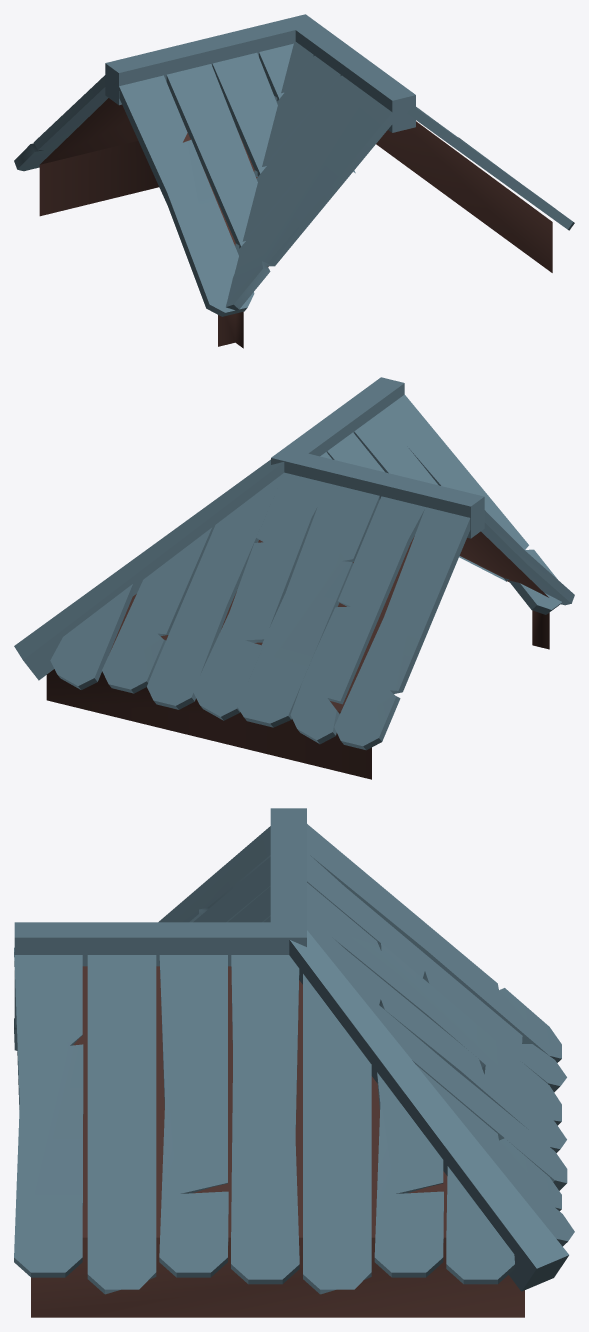
Rendered from Building_Angle_Roof_001.glb.
3 views of the same model, one above another, from view 1: azimuth 30°, elevation 25°; view 2: azimuth 150°, elevation 25°; view 3: azimuth 270°, elevation 25° (orthographic). The views are drawn at different scales.
Parts seen in each view (by area): view 1: Building_Angle_Roof_001; view 2: Building_Angle_Roof_001; view 3: Building_Angle_Roof_001.
Boxes of the visible parts, x1,y1,x2,y2 form: Building_Angle_Roof_001: (14,14,574,348); Building_Angle_Roof_001: (14,377,574,779); Building_Angle_Roof_001: (14,808,574,1317).
Bounding box in the file's own units: 7.88 × 4.38 × 7.73.
Materials: 1 (1 with a texture image).
